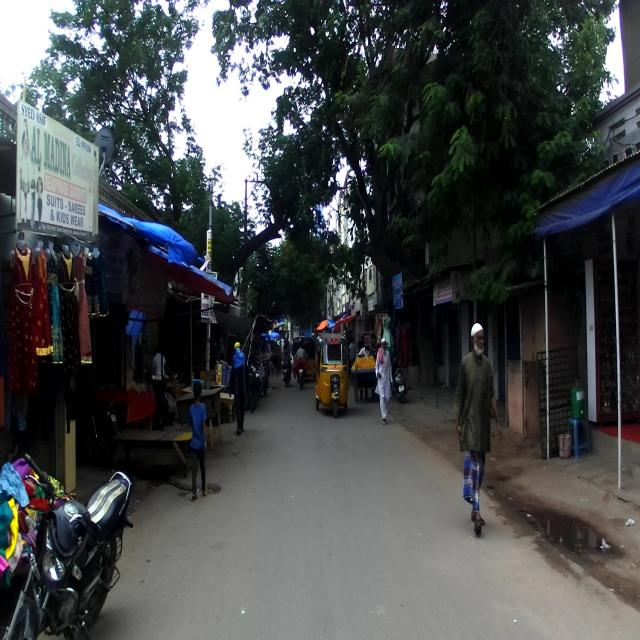autorickshaw: (314, 334, 350, 414)
motorcycle_bajaj: (0, 451, 134, 639)
